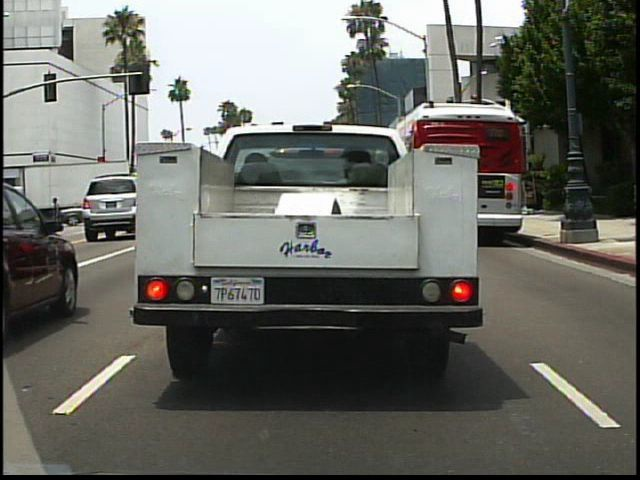person: (52, 196, 70, 236), (21, 196, 40, 231)
